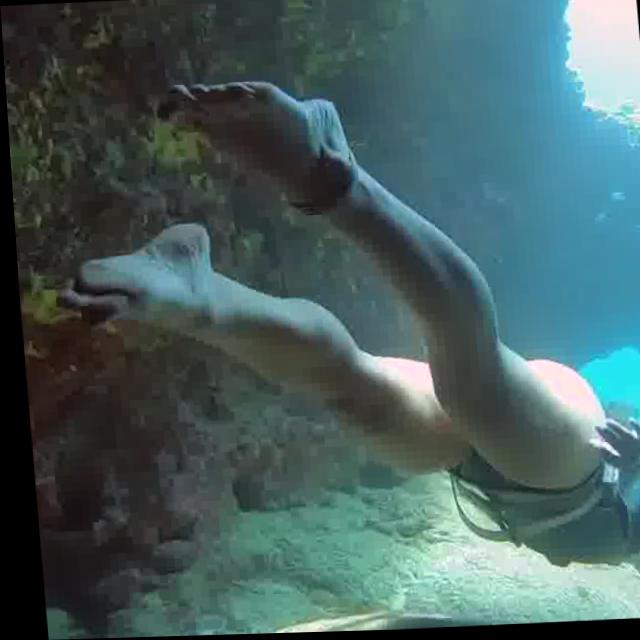human: (18, 50, 640, 594)
